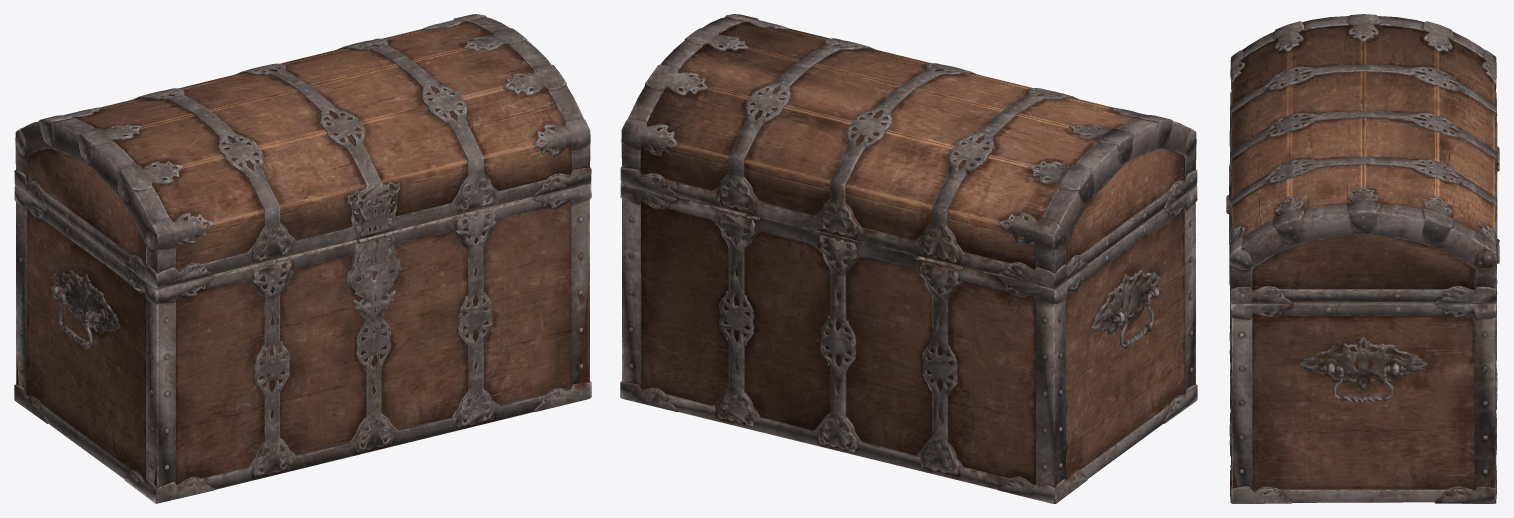
The model's file is treasure_chest.glb.
The picture shows the model from 3 angles, left to right: view 1: azimuth 30°, elevation 25°; view 2: azimuth 150°, elevation 25°; view 3: azimuth 270°, elevation 25°; orthographic projection. The views are drawn at different scales.
Visible parts, largest first — view 1: treasure_chest_bottom, treasure_chest_lid, treasure_chest_lock, treasure_chest_handle_left; view 2: treasure_chest_bottom, treasure_chest_lid; view 3: treasure_chest_lid, treasure_chest_bottom, treasure_chest_handle_right.
Boxes of the visible parts, x1,y1,x2,y2 form: treasure_chest_bottom: (14, 183, 591, 503); treasure_chest_lid: (14, 14, 591, 288); treasure_chest_lock: (349, 233, 399, 322); treasure_chest_handle_left: (50, 285, 99, 348); treasure_chest_bottom: (620, 183, 1197, 503); treasure_chest_lid: (620, 14, 1197, 288); treasure_chest_lid: (1226, 14, 1499, 303); treasure_chest_bottom: (1229, 152, 1499, 503); treasure_chest_handle_right: (1320, 365, 1406, 402).
Bounding box in the file's own units: 0.959 × 0.6182 × 0.5223.
1 material, 1 textured.
